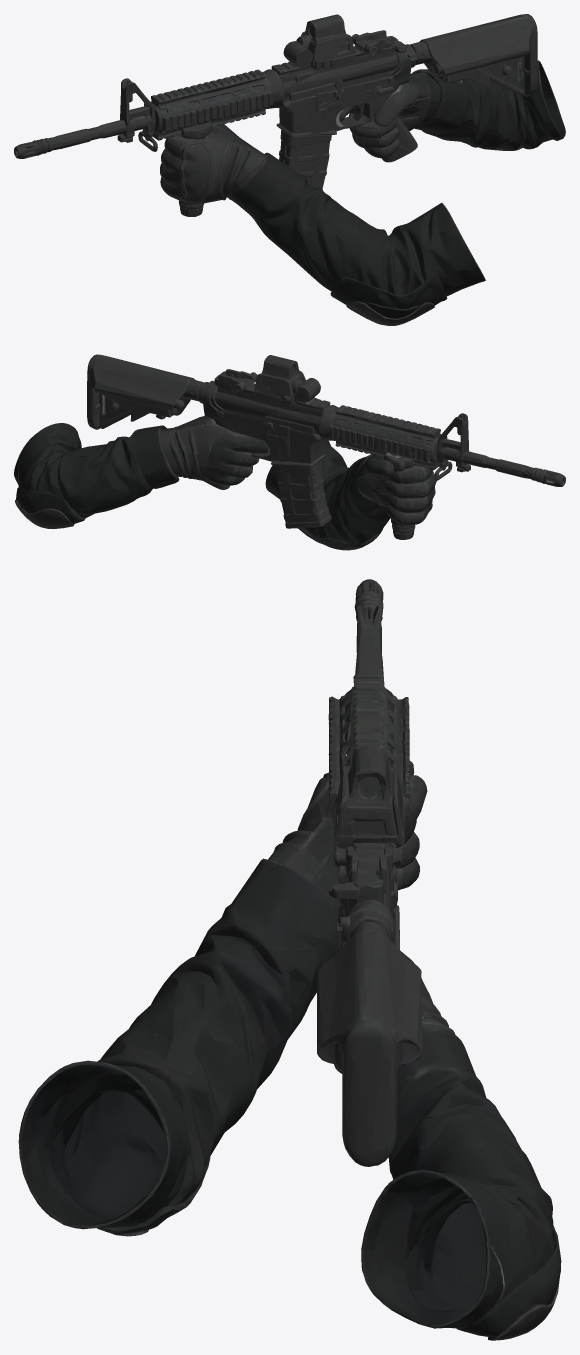
The model's file is gun.glb.
3 renders of one model, top to bottom at view 1: azimuth 30°, elevation 25°; view 2: azimuth 150°, elevation 25°; view 3: azimuth 270°, elevation 25°, orthographic. The views are drawn at different scales.
Visible parts, largest first — view 1: output_unwrapped; view 2: output_unwrapped; view 3: output_unwrapped.
Boxes of the visible parts, x1,y1,x2,y2 form: output_unwrapped: [14, 14, 565, 325]; output_unwrapped: [14, 354, 565, 550]; output_unwrapped: [18, 579, 561, 1340].
Bounding box in the file's own units: 1.91 × 0.8125 × 0.8605.
1 material, 1 textured.
